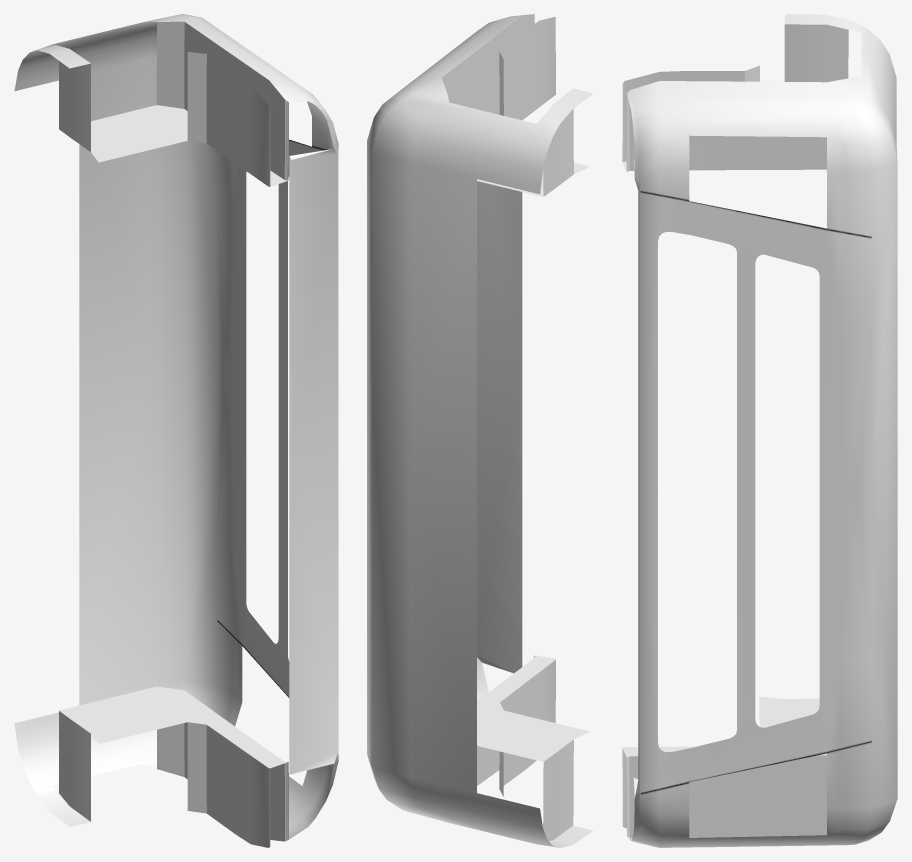
File: bumper.obj
3 renders of one model, left to right at view 1: azimuth 30°, elevation 25°; view 2: azimuth 150°, elevation 25°; view 3: azimuth 270°, elevation 25°, orthographic. The views are drawn at different scales.
Parts seen in each view (by area): view 1: cab_body; view 2: cab_body; view 3: cab_body.
Boxes of the visible parts, <box> form: cab_body: <box>14,14,338,847</box>; cab_body: <box>367,14,593,847</box>; cab_body: <box>622,14,897,847</box>.
Bounding box in the file's own units: 0.6544 × 2.42 × 0.7861.
1 material, 1 textured.
